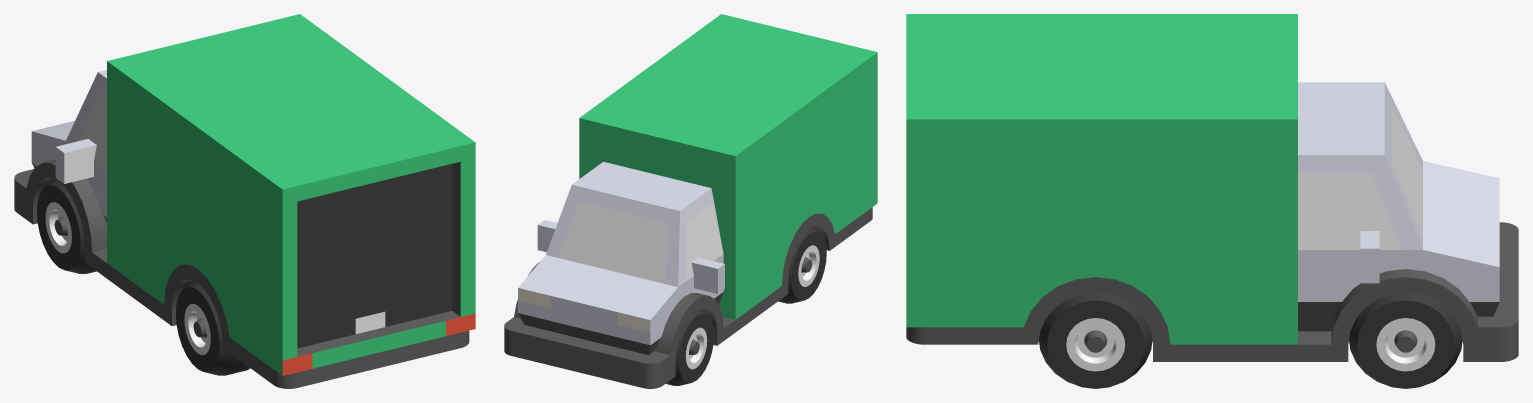
File: delivery.glb
3 renders of one model, left to right at view 1: azimuth 30°, elevation 25°; view 2: azimuth 150°, elevation 25°; view 3: azimuth 270°, elevation 25°, orthographic. The views are drawn at different scales.
Visible parts, largest first — view 1: delivery; view 2: delivery; view 3: delivery.
Boxes of the visible parts, left/top/right/bottom form: delivery: left=14, top=14, right=475, bottom=388; delivery: left=504, top=14, right=877, bottom=388; delivery: left=906, top=14, right=1518, bottom=388.
Bounding box in the file's own units: 2.25 × 2.4 × 4.8.
